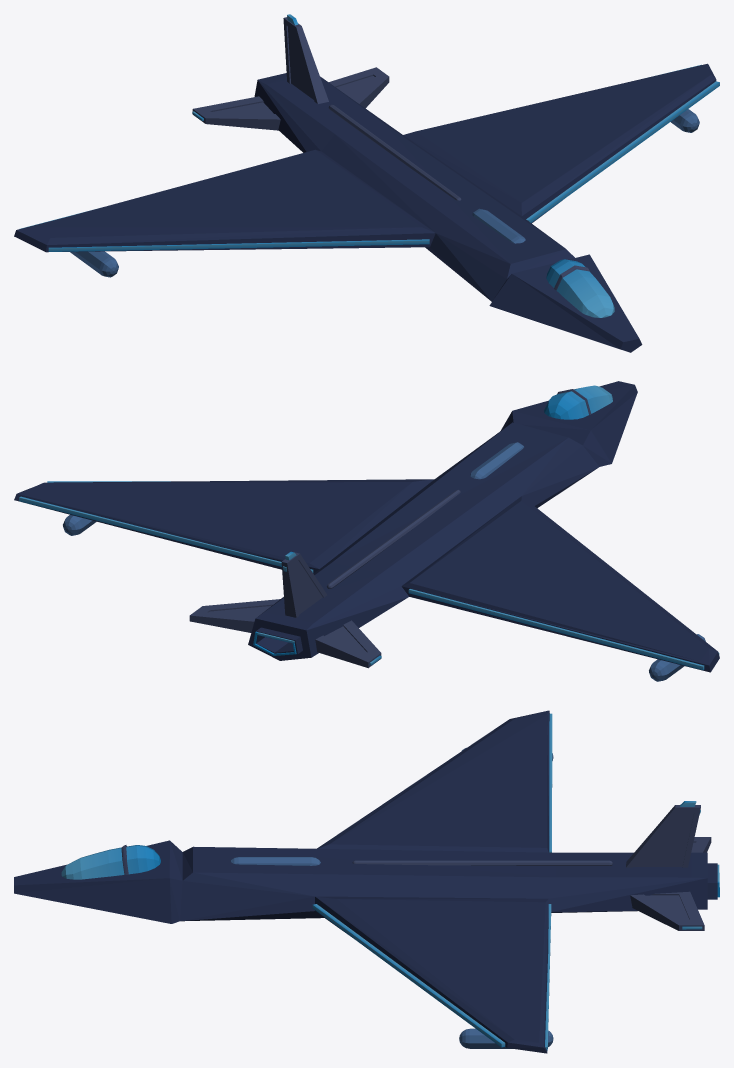
Rendered from traffic-military.glb.
The picture shows the model from 3 angles, top to bottom: view 1: azimuth 30°, elevation 25°; view 2: azimuth 150°, elevation 25°; view 3: azimuth 270°, elevation 25°; orthographic projection.
Parts seen in each view (by area): view 1: military_jet; view 2: military_jet; view 3: military_jet.
Boxes of the visible parts, x1,y1,x2,y2 form: military_jet: (14, 14, 719, 352); military_jet: (14, 381, 719, 681); military_jet: (14, 710, 719, 1053).
Bounding box in the file's own units: 946 × 141 × 833.
